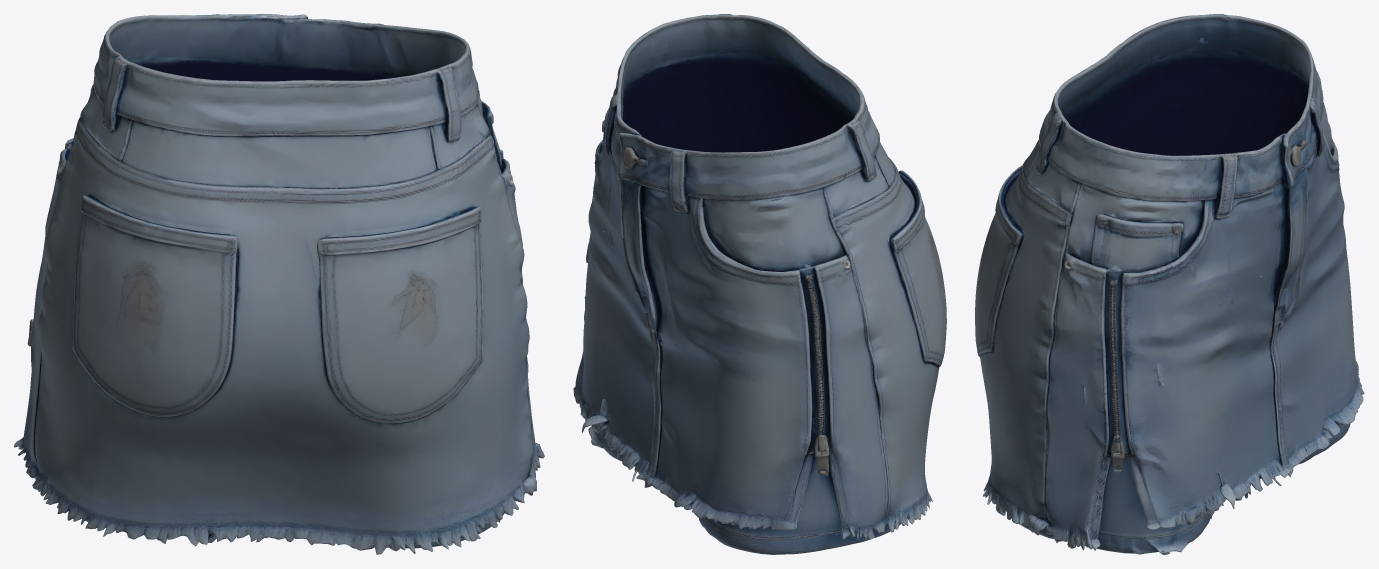
The model's file is faldaShort.glb.
The picture shows the model from 3 angles, left to right: view 1: azimuth 30°, elevation 25°; view 2: azimuth 150°, elevation 25°; view 3: azimuth 270°, elevation 25°; orthographic projection. The views are drawn at different scales.
Parts seen in each view (by area): view 1: tripo_node_7eb58b3d-5f1d-42ad-bd62-8b1de3bdbdc6; view 2: tripo_node_7eb58b3d-5f1d-42ad-bd62-8b1de3bdbdc6; view 3: tripo_node_7eb58b3d-5f1d-42ad-bd62-8b1de3bdbdc6.
Boxes of the visible parts, <box> form: tripo_node_7eb58b3d-5f1d-42ad-bd62-8b1de3bdbdc6: <box>14,14,544,554</box>; tripo_node_7eb58b3d-5f1d-42ad-bd62-8b1de3bdbdc6: <box>573,14,946,554</box>; tripo_node_7eb58b3d-5f1d-42ad-bd62-8b1de3bdbdc6: <box>975,14,1364,554</box>.
Size of the model in its own units: 0.9692 by 1 by 0.8718.
1 material, 1 textured.
